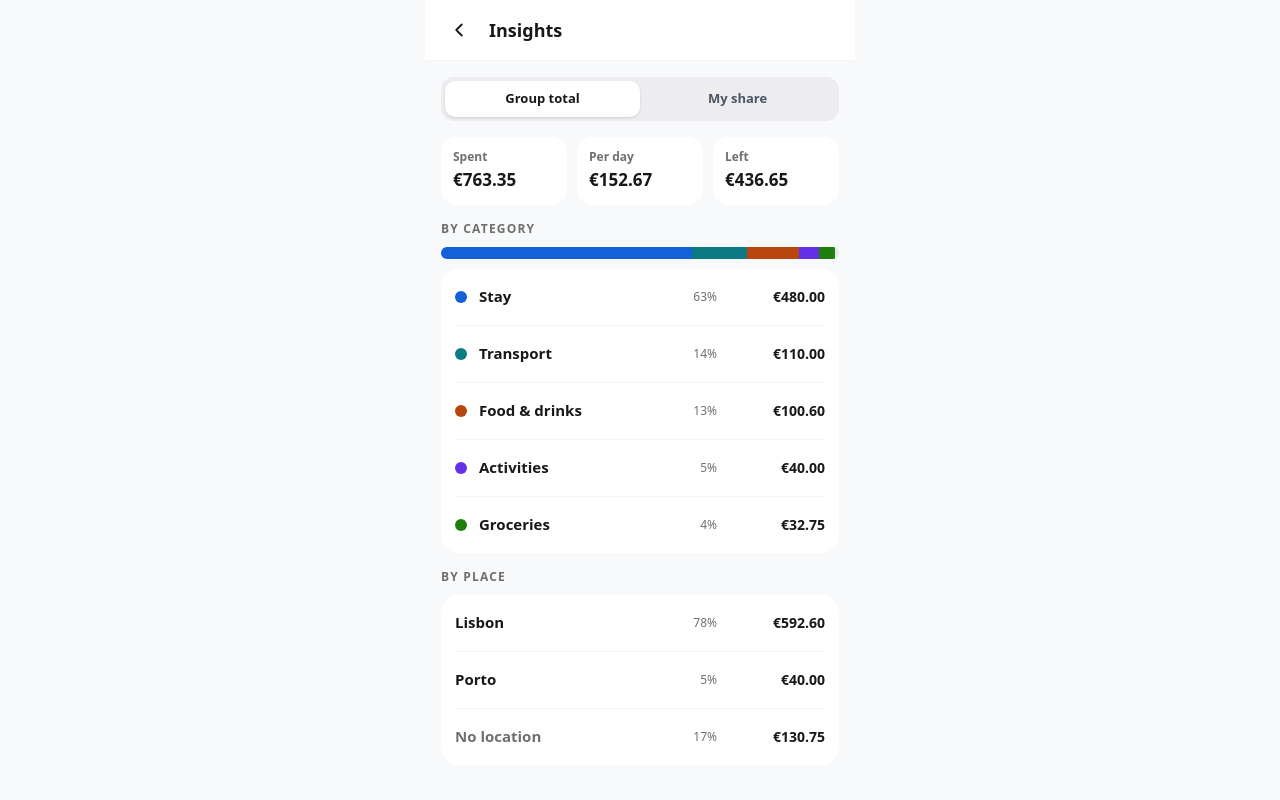
insights screen › shows group totals, switches to my share, and the budget tile only for the group
The width and height of the screenshot is (1280, 800).
Check: the text "€763.35" is shown, box [453,168,516,191]
Check: the text "Spent" is shown, box [453,148,487,165]
Click the button "My share" at point(738, 99), box [640,81,835,117]
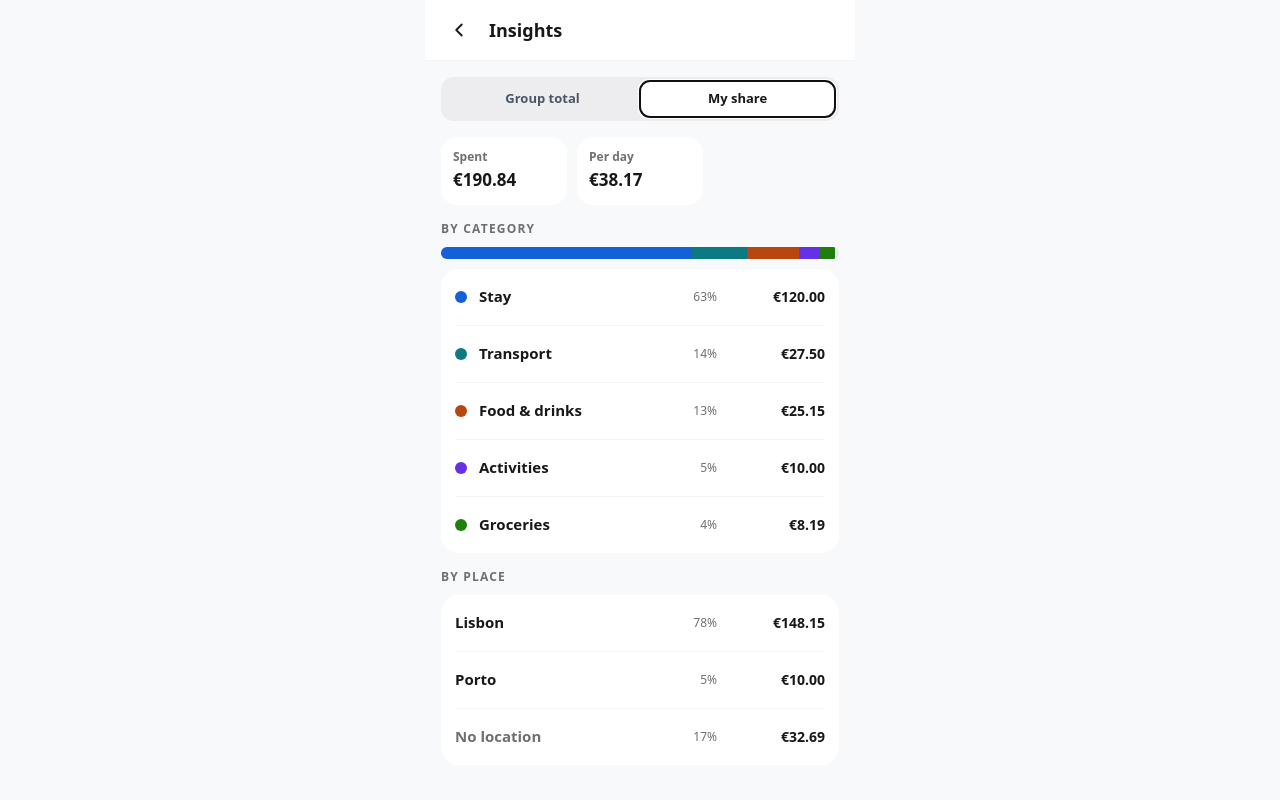
Check: the text "€190.84" is shown, box [453,168,516,191]
Check: the text "Left" is gone
Click the button "Group total" at point(542, 99), box [445,81,640,117]
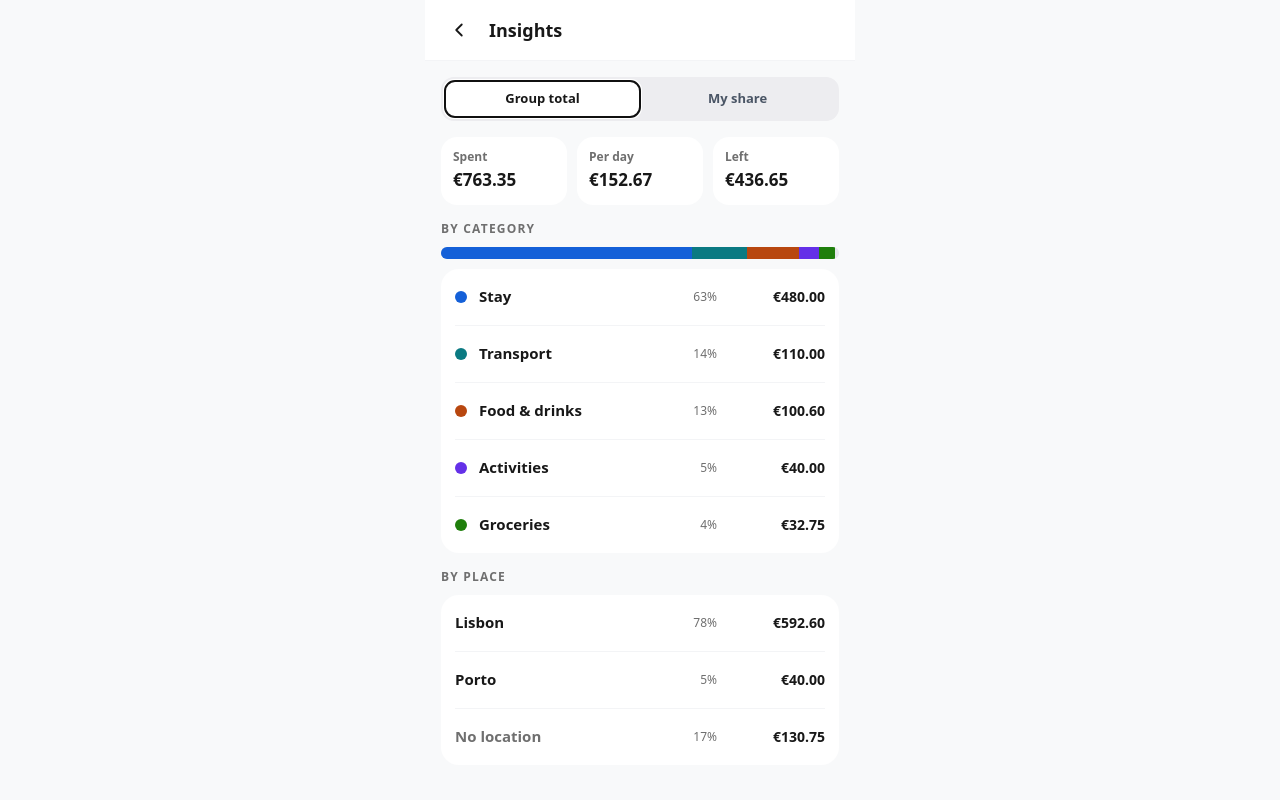
Check: the text "Left" is shown, box [725,148,749,165]
